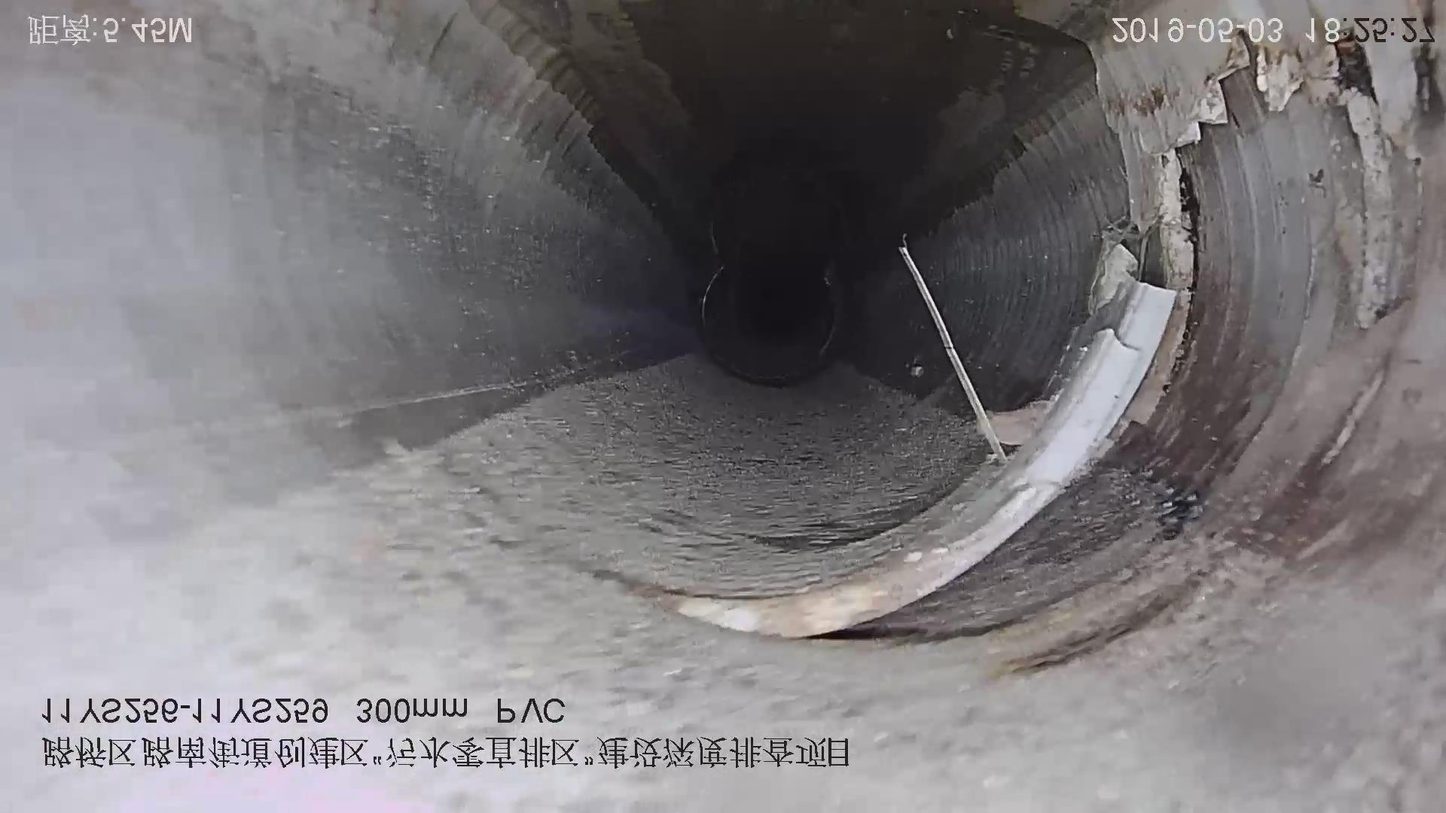JKCL: (628, 3, 1250, 649)
